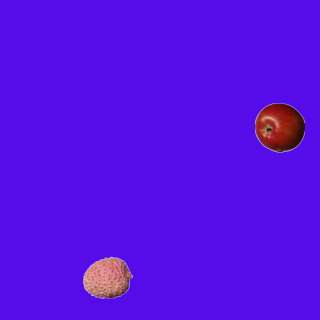Apple Braeburn: (254, 102, 304, 152)
Lychee: (82, 252, 132, 302)
